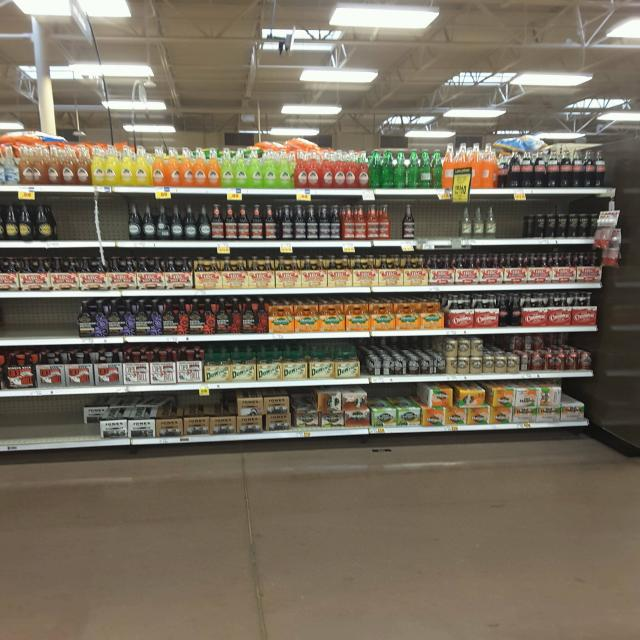void: (43, 398, 80, 451), (0, 402, 40, 451), (0, 297, 36, 346), (53, 201, 91, 247), (38, 300, 76, 346), (94, 195, 127, 247), (419, 203, 454, 247), (500, 204, 520, 246)
